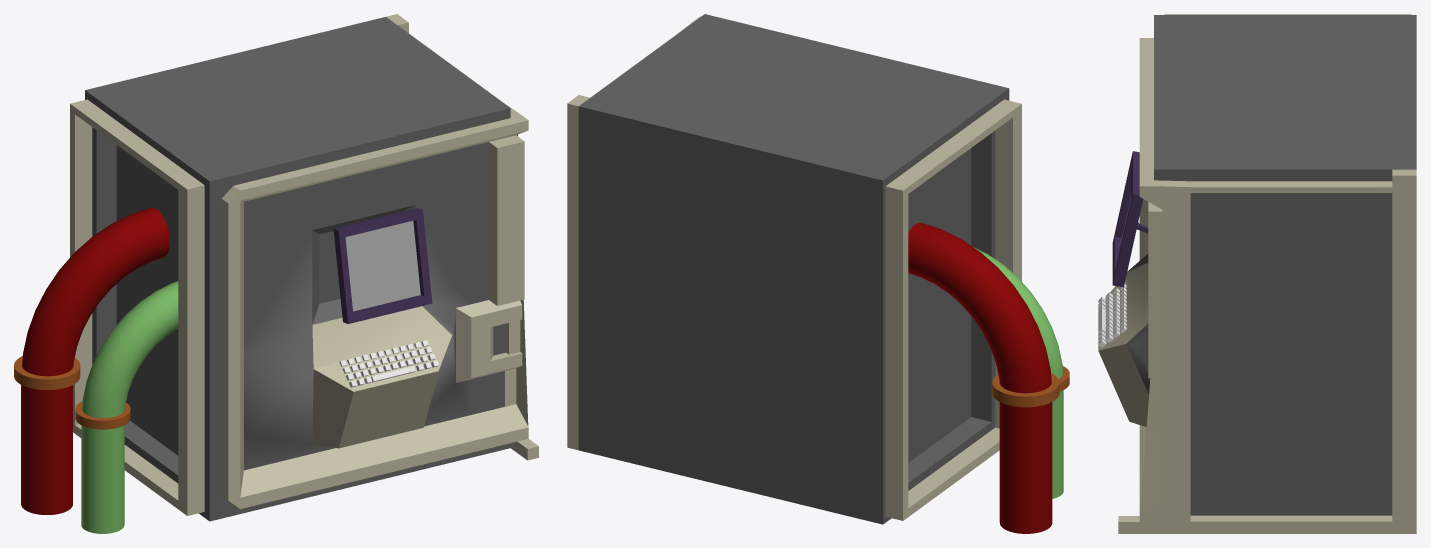
The model's file is Server.fbx.
3 views of the same model, side by side, from view 1: azimuth 30°, elevation 25°; view 2: azimuth 150°, elevation 25°; view 3: azimuth 270°, elevation 25° (orthographic). The views are drawn at different scales.
Visible parts, largest first — view 1: pCube1, pCylinder3, pasted__pCylinder3, pasted__pCube5; view 2: pCube1, pCylinder3, pasted__pCylinder3; view 3: pCube1, pasted__pCube5.
Part boxes in pixels (x1=…): pCube1: x1=70, y1=14, x2=538, y2=521; pCylinder3: x1=14, y1=207, x2=169, y2=514; pasted__pCylinder3: x1=75, y1=281, x2=178, y2=533; pasted__pCube5: x1=333, y1=208, x2=432, y2=323; pCube1: x1=567, y1=14, x2=1021, y2=524; pCylinder3: x1=908, y1=222, x2=1059, y2=533; pasted__pCylinder3: x1=973, y1=247, x2=1069, y2=498; pCube1: x1=1098, y1=14, x2=1416, y2=533; pasted__pCube5: x1=1112, y1=151, x2=1148, y2=287.
Bounding box in the file's own units: 1.99 × 1.57 × 1.21.
